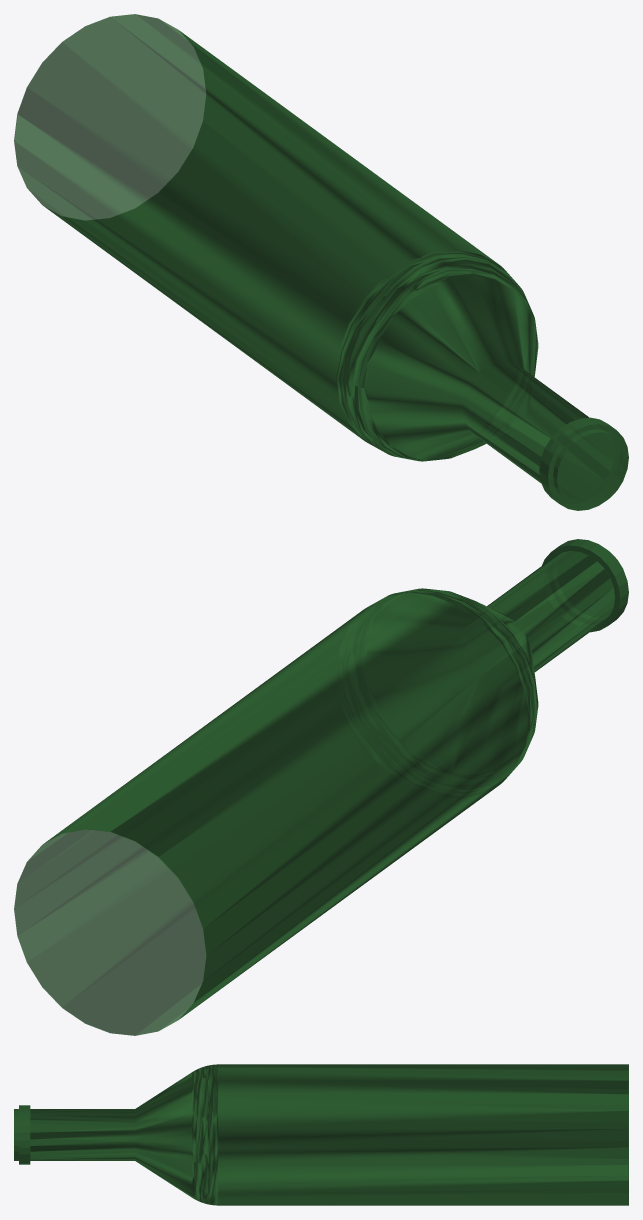
File: model_align.obj
3 renders of one model, top to bottom at view 1: azimuth 30°, elevation 25°; view 2: azimuth 150°, elevation 25°; view 3: azimuth 270°, elevation 25°, orthographic. The views are drawn at different scales.
Size of the model in its own units: 0.0384 by 0.0384 by 0.1668.
